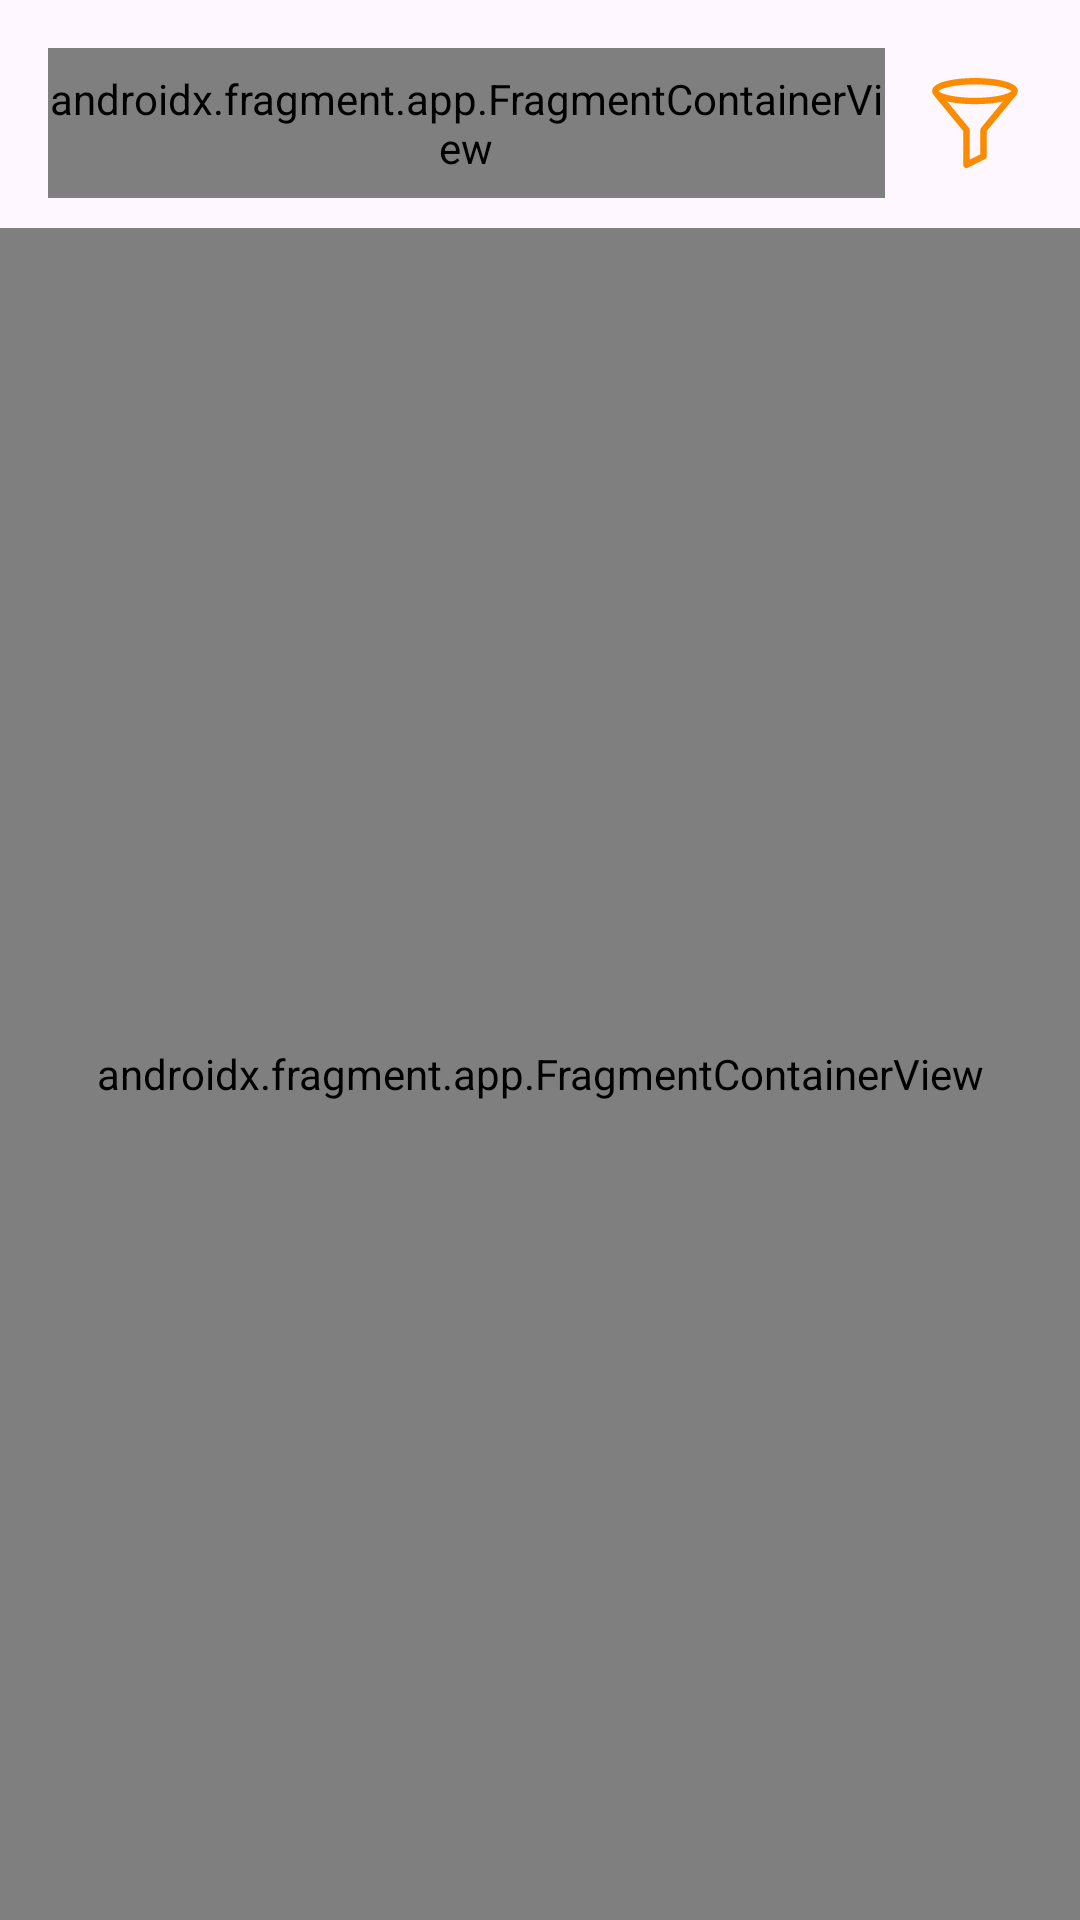

Icon click points for this 1080px×1920px phone screenshot, format [x,y]:
Filter Icon: [975,123]
